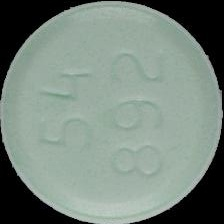63629-3742: (0, 0, 224, 224)
